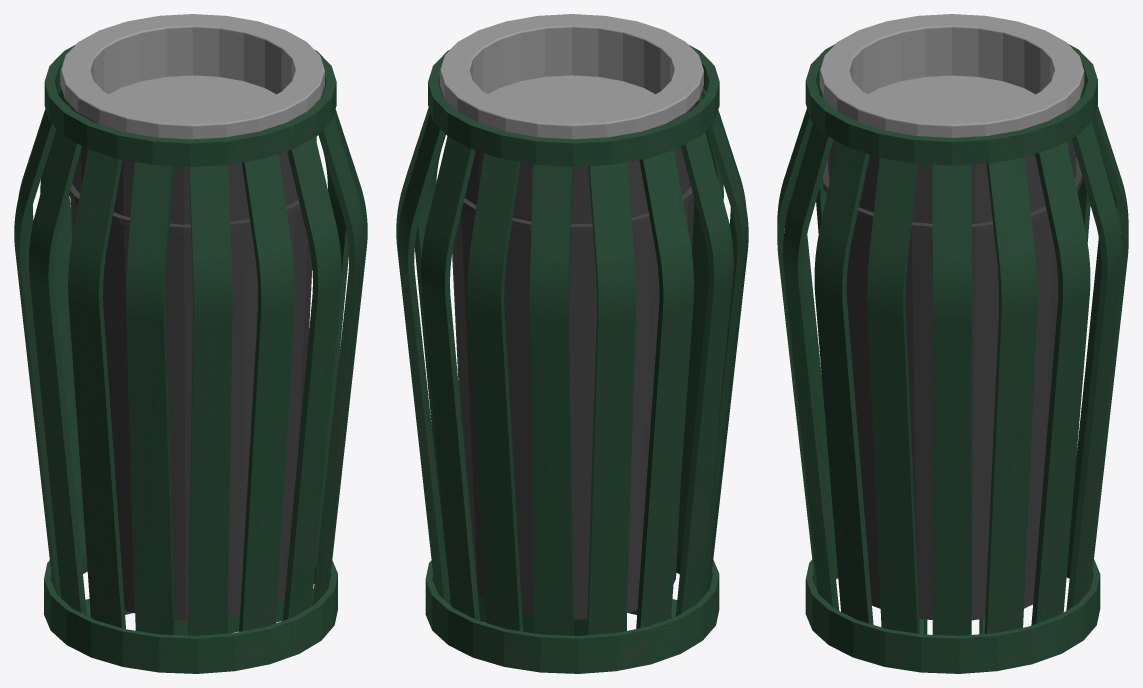
3 views of the same model, side by side, from view 1: azimuth 30°, elevation 25°; view 2: azimuth 150°, elevation 25°; view 3: azimuth 270°, elevation 25° (orthographic).
Visible parts, largest first — view 1: mesh26.001_mesh26-geometry, mesh13.001_mesh13-geometry, mesh1.001_mesh1-geometry, mesh27.001_mesh27-geometry, mesh28.001_mesh28-geometry; view 2: mesh26.001_mesh26-geometry, mesh13.001_mesh13-geometry, mesh1.001_mesh1-geometry, mesh27.001_mesh27-geometry, mesh29.001_mesh29-geometry; view 3: mesh26.001_mesh26-geometry, mesh13.001_mesh13-geometry, mesh1.001_mesh1-geometry, mesh27.001_mesh27-geometry.
Part boxes in pixels (x1,y1,x2,y2): mesh26.001_mesh26-geometry: (14,45,367,635); mesh13.001_mesh13-geometry: (69,103,316,620); mesh1.001_mesh1-geometry: (60,14,324,139); mesh27.001_mesh27-geometry: (44,554,337,673); mesh28.001_mesh28-geometry: (174,588,313,635); mesh26.001_mesh26-geometry: (396,45,748,635); mesh13.001_mesh13-geometry: (452,103,695,619); mesh1.001_mesh1-geometry: (439,14,703,139); mesh27.001_mesh27-geometry: (425,555,719,673); mesh29.001_mesh29-geometry: (478,595,626,635); mesh26.001_mesh26-geometry: (777,44,1128,635); mesh13.001_mesh13-geometry: (822,139,1082,620); mesh1.001_mesh1-geometry: (819,14,1084,137); mesh27.001_mesh27-geometry: (805,559,1100,673).
Bounding box in the file's own units: 0.4515 × 0.7696 × 0.4515.
